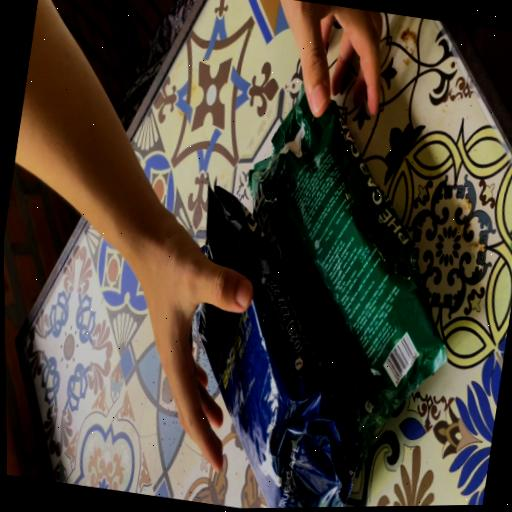cafe_hat: (195, 185, 361, 508)
cafe_xay: (249, 99, 446, 402)
